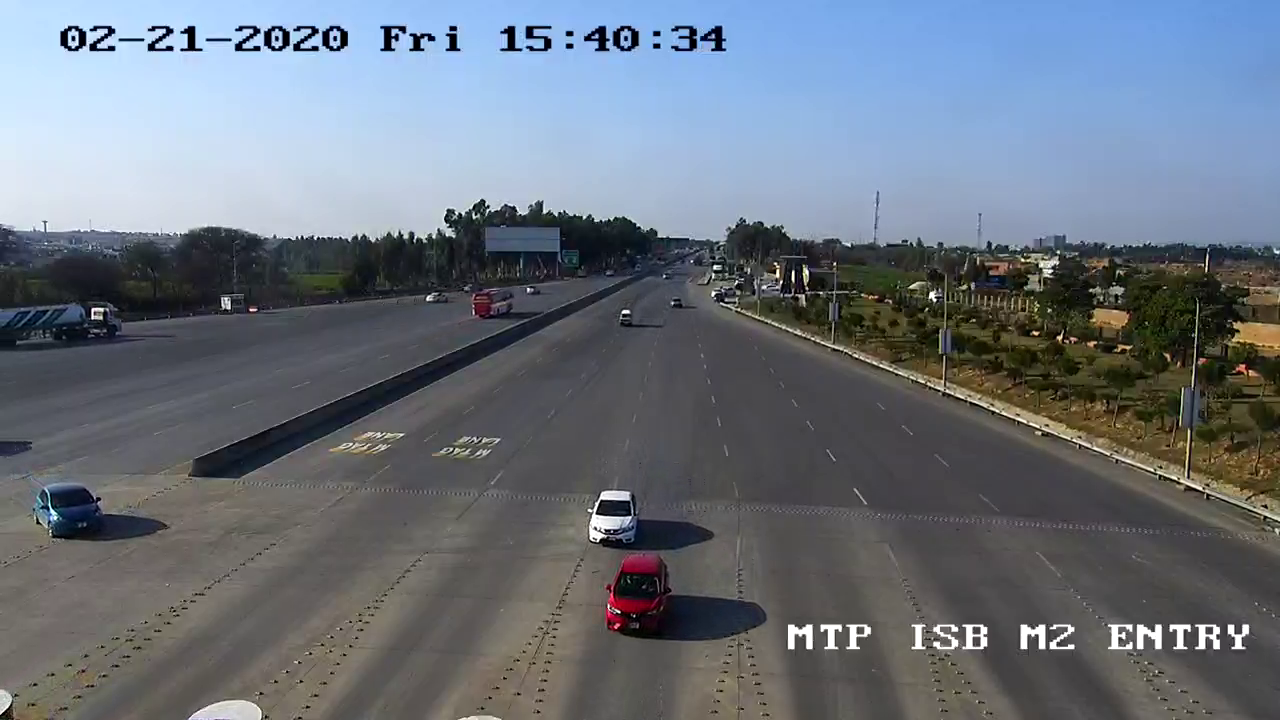f1: (599, 546, 689, 640), (582, 484, 645, 554)
